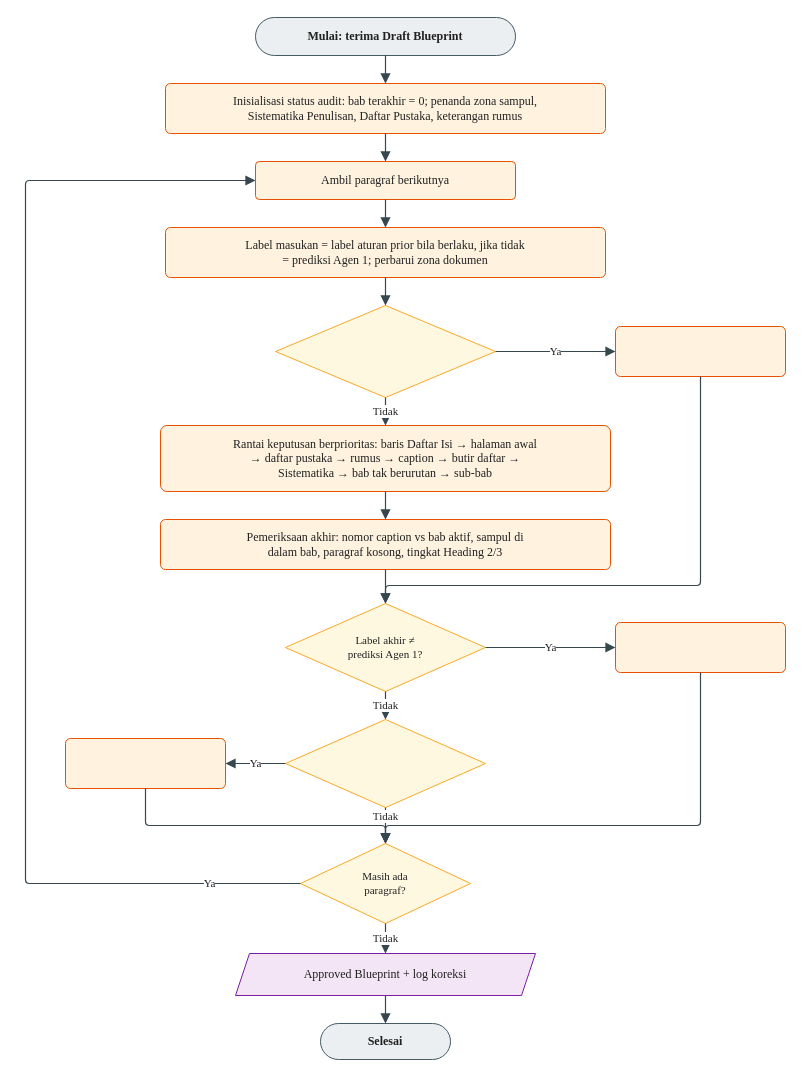
This 804x1077 diagram has some shape labels left out. The box of each missing label's shape, as (x1, y1, x2, y2) in pixels:
Ambigu & tidak dipastikan aturan?: (284, 718, 486, 808)
Catat koreksi + alasan ke log & pool koreksi: (614, 622, 786, 672)
Judul bab bernomor = bab terakhir + 1?: (274, 304, 496, 398)
JUDUL_BAB; bab terakhir diperbarui: (614, 326, 786, 376)
Tandai untuk dicek penulis di laporan: (64, 738, 226, 788)
